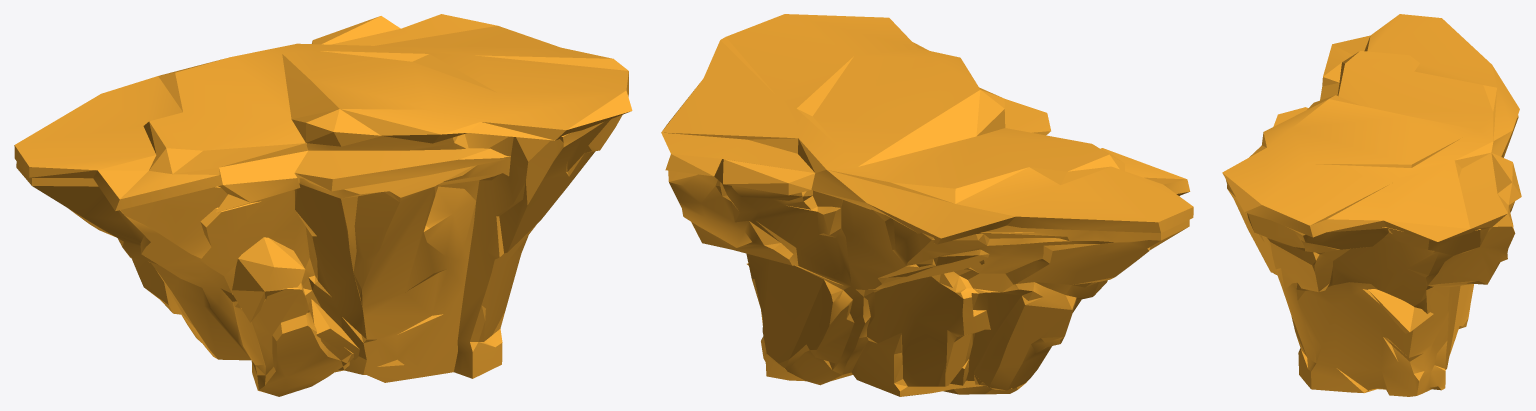
File: SM_Iceberg_Medium_D_Snow.fbx
3 renders of one model, left to right at view 1: azimuth 30°, elevation 25°; view 2: azimuth 150°, elevation 25°; view 3: azimuth 270°, elevation 25°, orthographic. The views are drawn at different scales.
Visible parts, largest first — view 1: iceberg-medium-d-snow; view 2: iceberg-medium-d-snow; view 3: iceberg-medium-d-snow.
Part boxes in pixels (x1,y1,x2,y2): iceberg-medium-d-snow: [14, 14, 632, 396]; iceberg-medium-d-snow: [661, 14, 1193, 396]; iceberg-medium-d-snow: [1222, 14, 1521, 396].
Size of the model in its own units: 14.77 by 7.5 by 8.67.
